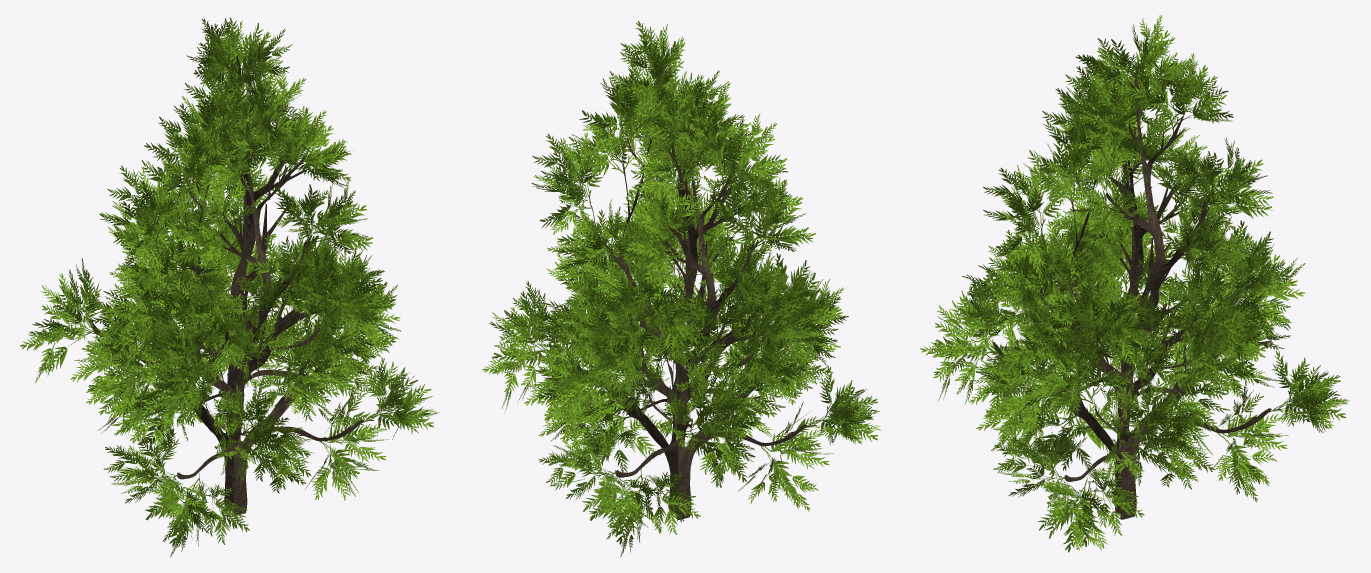
The model's file is tree2.glb.
3 renders of one model, left to right at view 1: azimuth 30°, elevation 25°; view 2: azimuth 150°, elevation 25°; view 3: azimuth 270°, elevation 25°, orthographic. The views are drawn at different scales.
Visible parts, largest first — view 1: Leaves, Bark.001; view 2: Leaves, Bark.001; view 3: Leaves, Bark.001.
Part boxes in pixels (box(x1,y1,x2,y2)): Leaves: box(20, 17, 439, 556); Bark.001: box(89, 55, 363, 514); Leaves: box(482, 20, 880, 557); Bark.001: box(549, 90, 806, 519); Leaves: box(920, 15, 1349, 552); Bark.001: box(993, 62, 1271, 519).
Bounding box in the file's own units: 2.45 × 3.4 × 2.71.
Materials: 2 (2 with a texture image).
